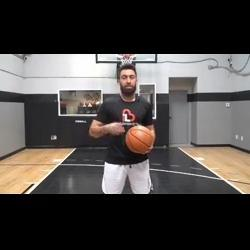BasketBall: (123, 123, 155, 155)
